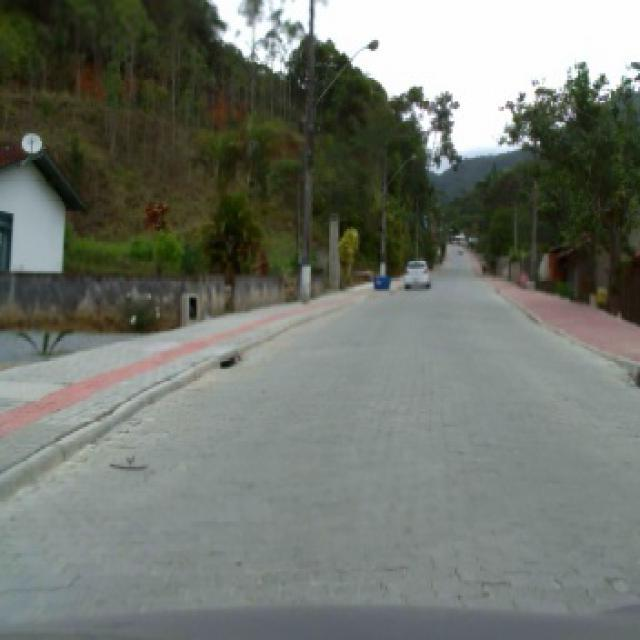Poth-hole: (220, 351, 238, 369)
